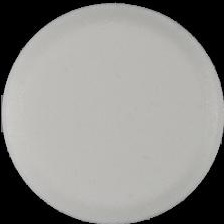63629-4331: (0, 0, 224, 224)
